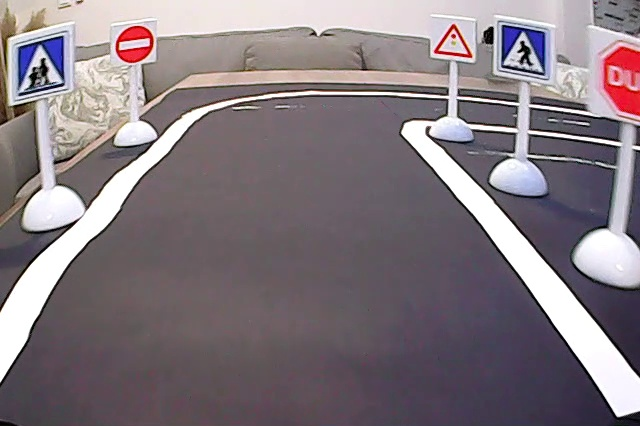do not enter: (110, 23, 157, 65)
pedestrian crossing: (497, 20, 550, 81)
red light: (432, 19, 477, 63)
school crossing: (8, 30, 70, 99)
stop sign: (593, 33, 640, 127)
